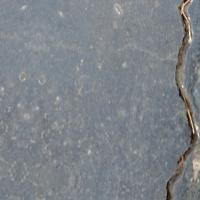crack: (134, 0, 199, 199)
